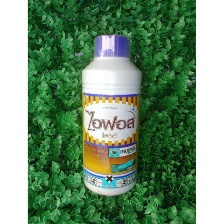insecticide: (75, 30, 145, 198)
